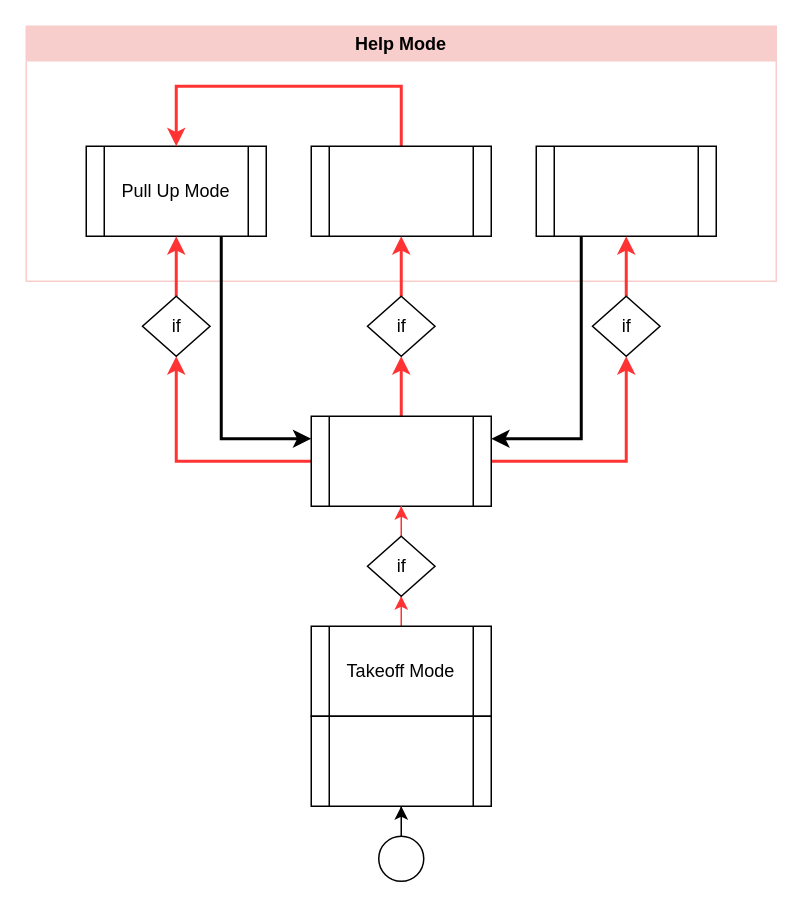
Image size: 803x908. Some labels were removed from this diagram. Each missing label, with the centre of its shape:
"Configuration" goes at pixel 400 760.
"Over Speed Mode" goes at pixel 625 190.
"Status Free Flight" goes at pixel 400 460.
"Vrille Mode" goes at pixel 400 190.
